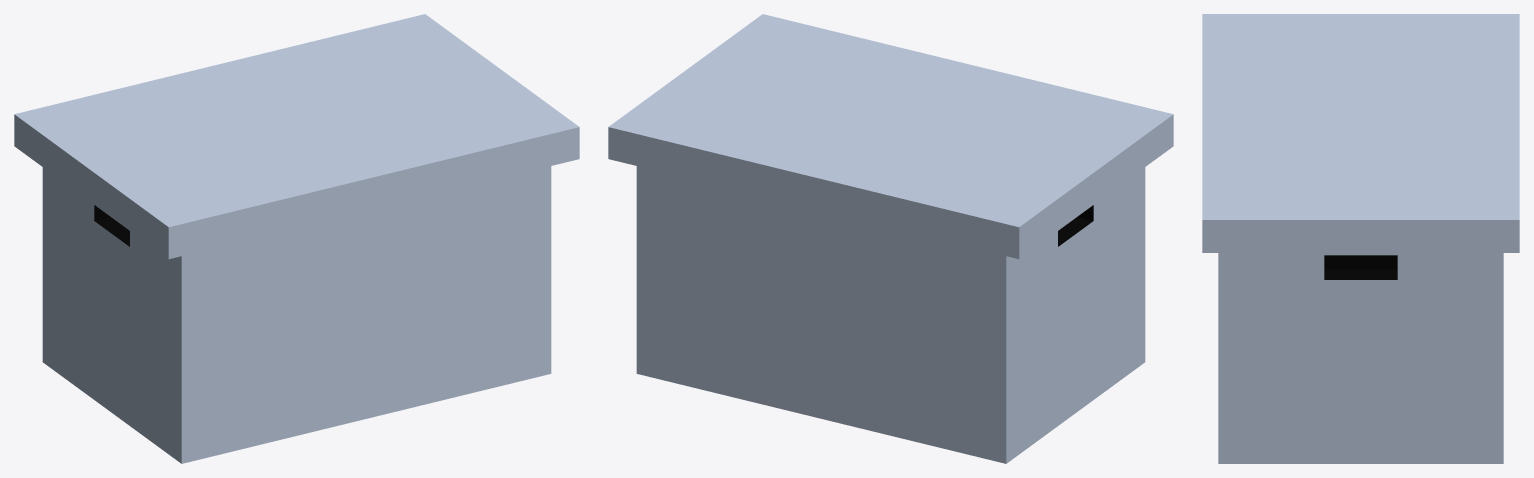
Rendered from whiteofficebox_modelingfbx.fbx.
The picture shows the model from 3 angles, left to right: view 1: azimuth 30°, elevation 25°; view 2: azimuth 150°, elevation 25°; view 3: azimuth 270°, elevation 25°; orthographic projection. The views are drawn at different scales.
Visible parts, largest first — view 1: whiteofficebox_modelingfbx; view 2: whiteofficebox_modelingfbx; view 3: whiteofficebox_modelingfbx.
Part boxes in pixels (x1,y1,x2,y2): whiteofficebox_modelingfbx: (14,14,579,463); whiteofficebox_modelingfbx: (608,14,1173,463); whiteofficebox_modelingfbx: (1202,14,1519,463).
Bounding box in the file's own units: 396 × 228 × 258.
